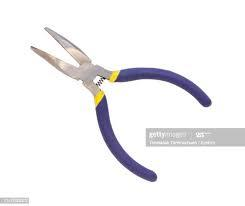pliers: (29, 25, 211, 182)
